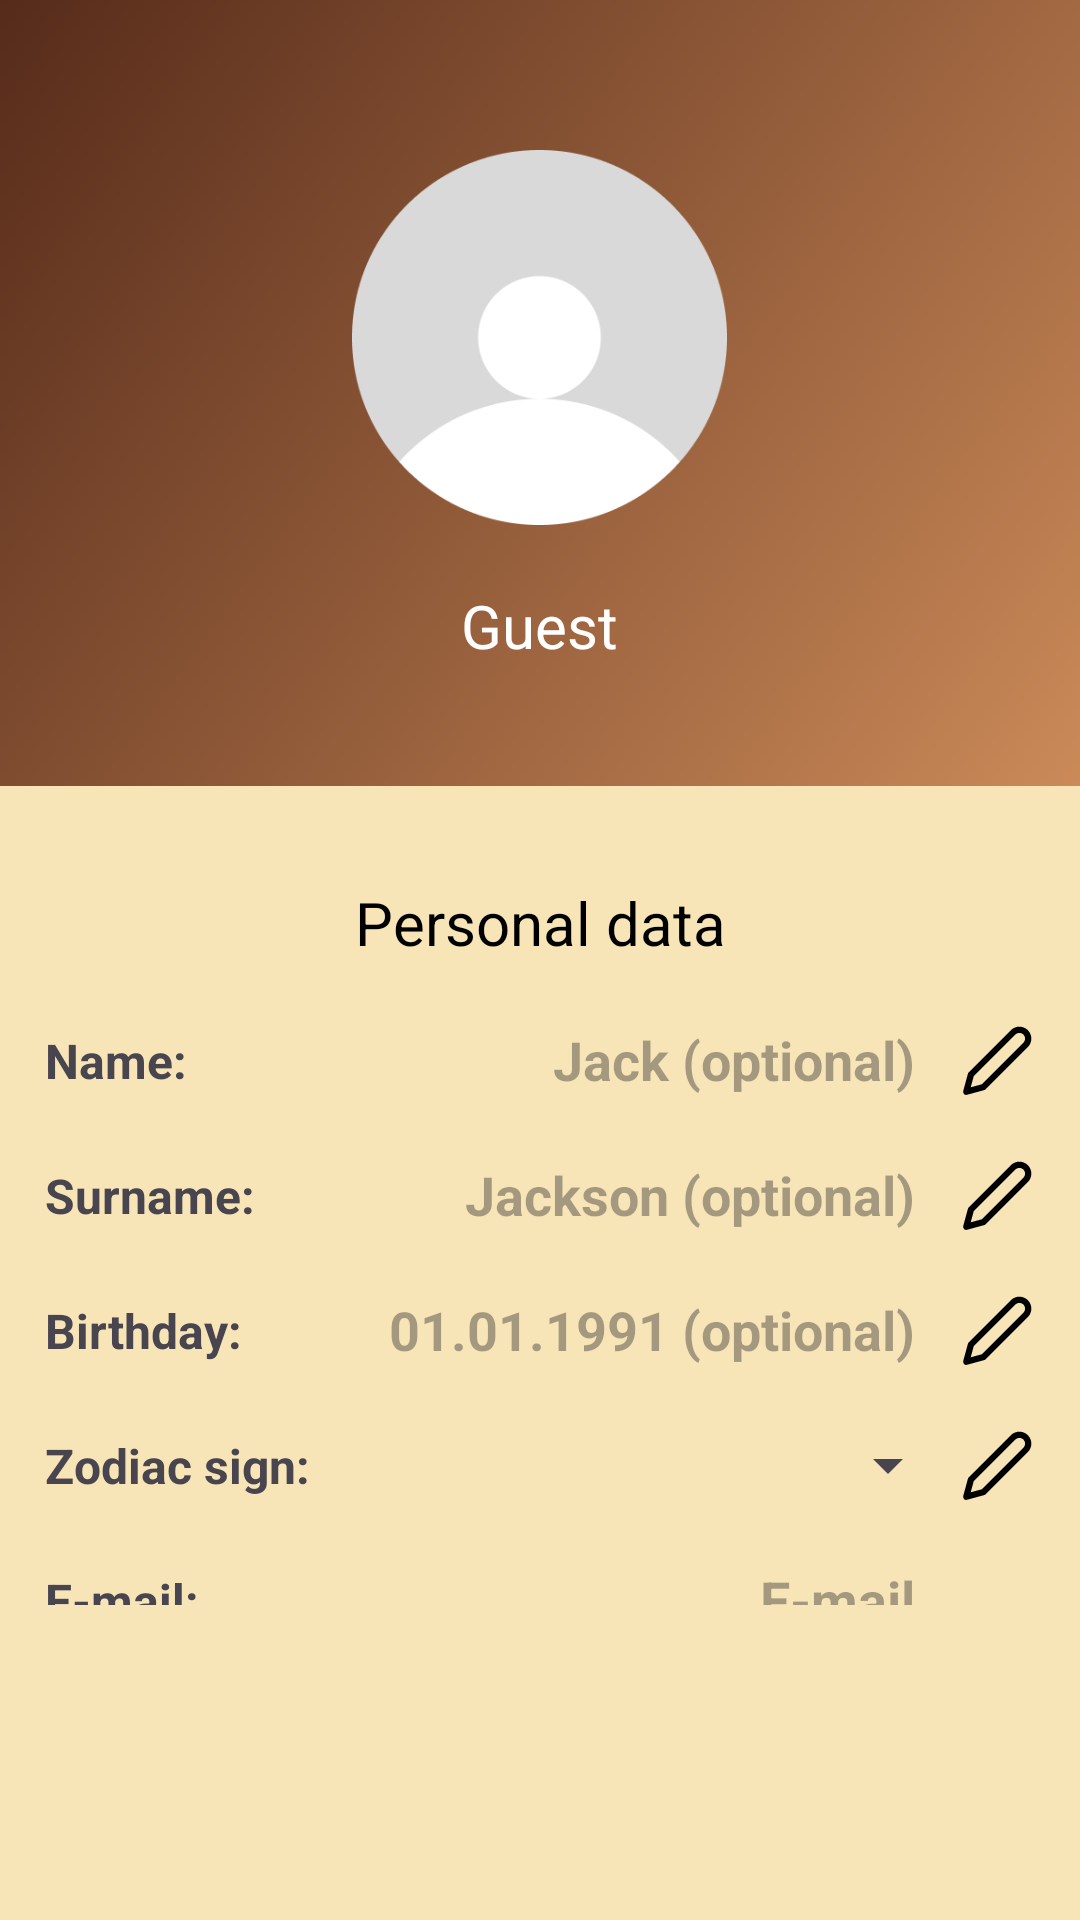

Icon bounding boxes for this 1080w x 1920h phone screenshot, format [x1, y1, x2, y2]:
edit: [963, 1026, 1032, 1095], [963, 1161, 1032, 1230], [963, 1296, 1032, 1365], [963, 1431, 1032, 1500]
